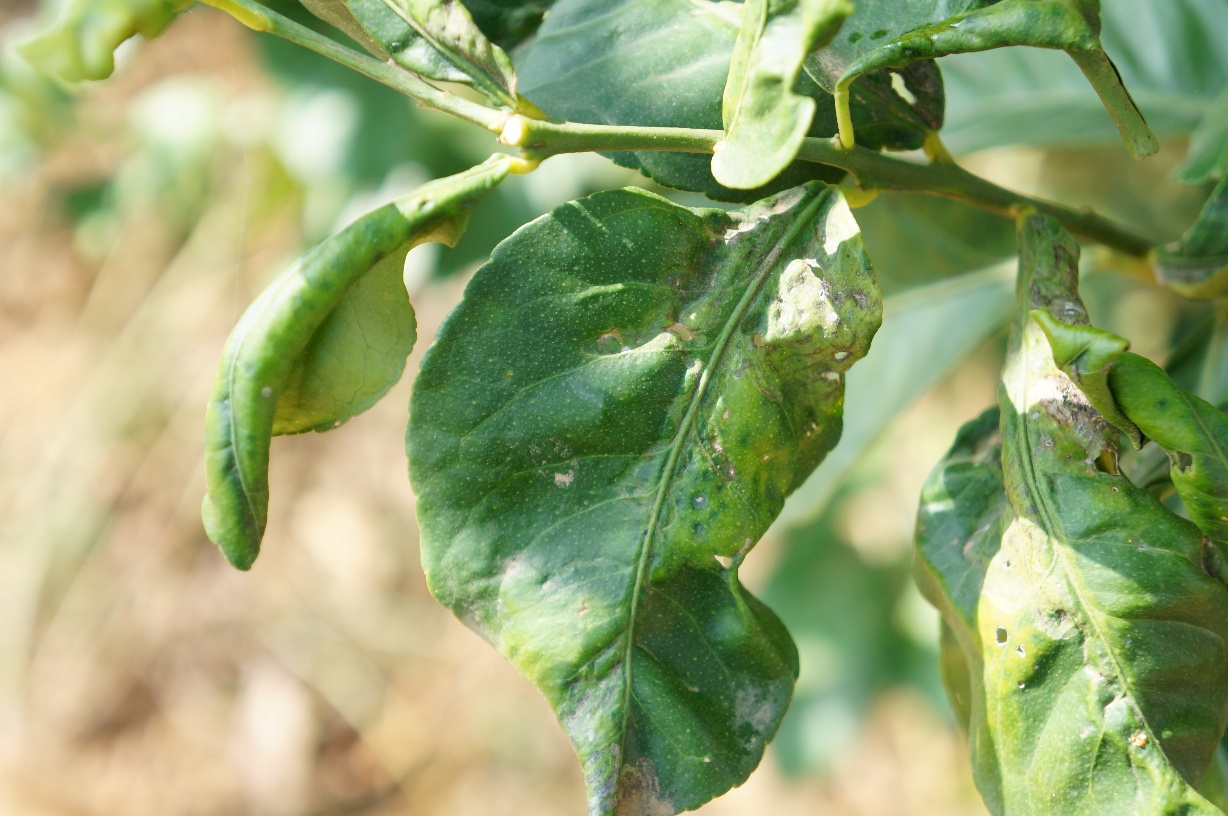curly: (193, 142, 535, 587)
damage: (669, 228, 898, 564), (588, 177, 816, 364)
